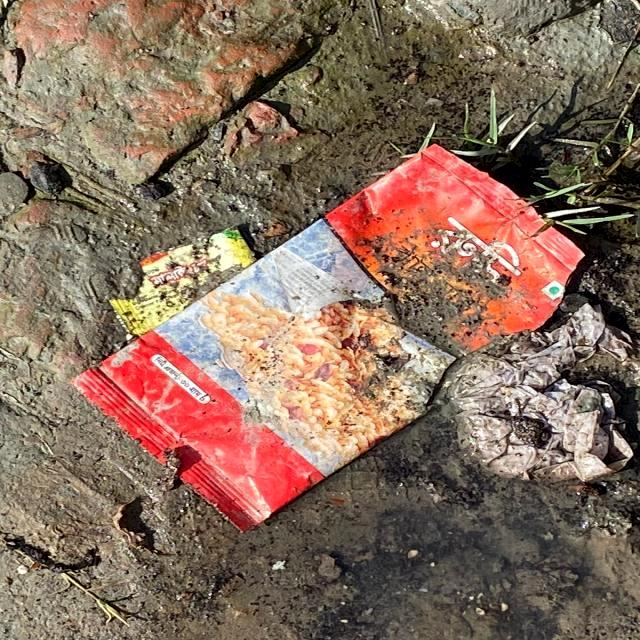packet: (130, 141, 586, 544), (98, 244, 258, 311)
